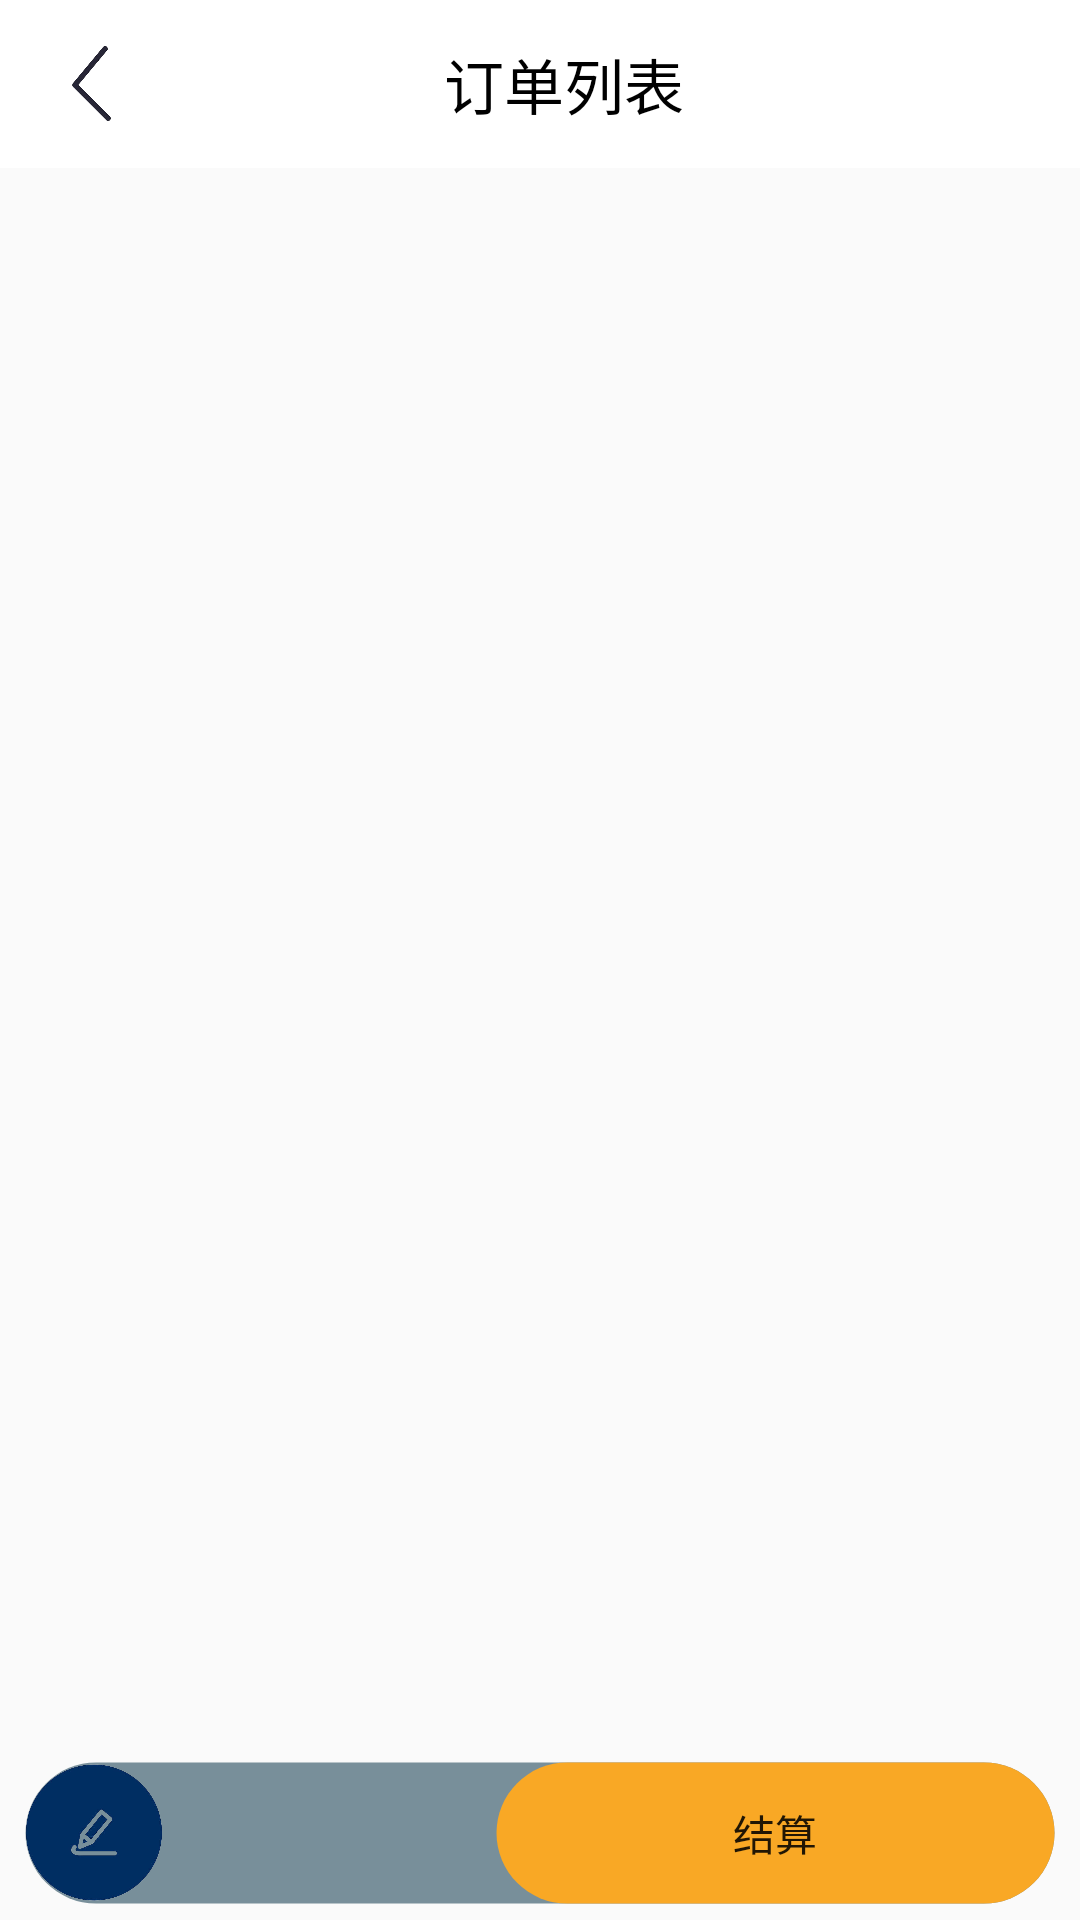

Screen size 1080 × 1920. Icon name, then its center in pixels as point (x, y):
back: point (91, 83)
edit: point (97, 1833)
